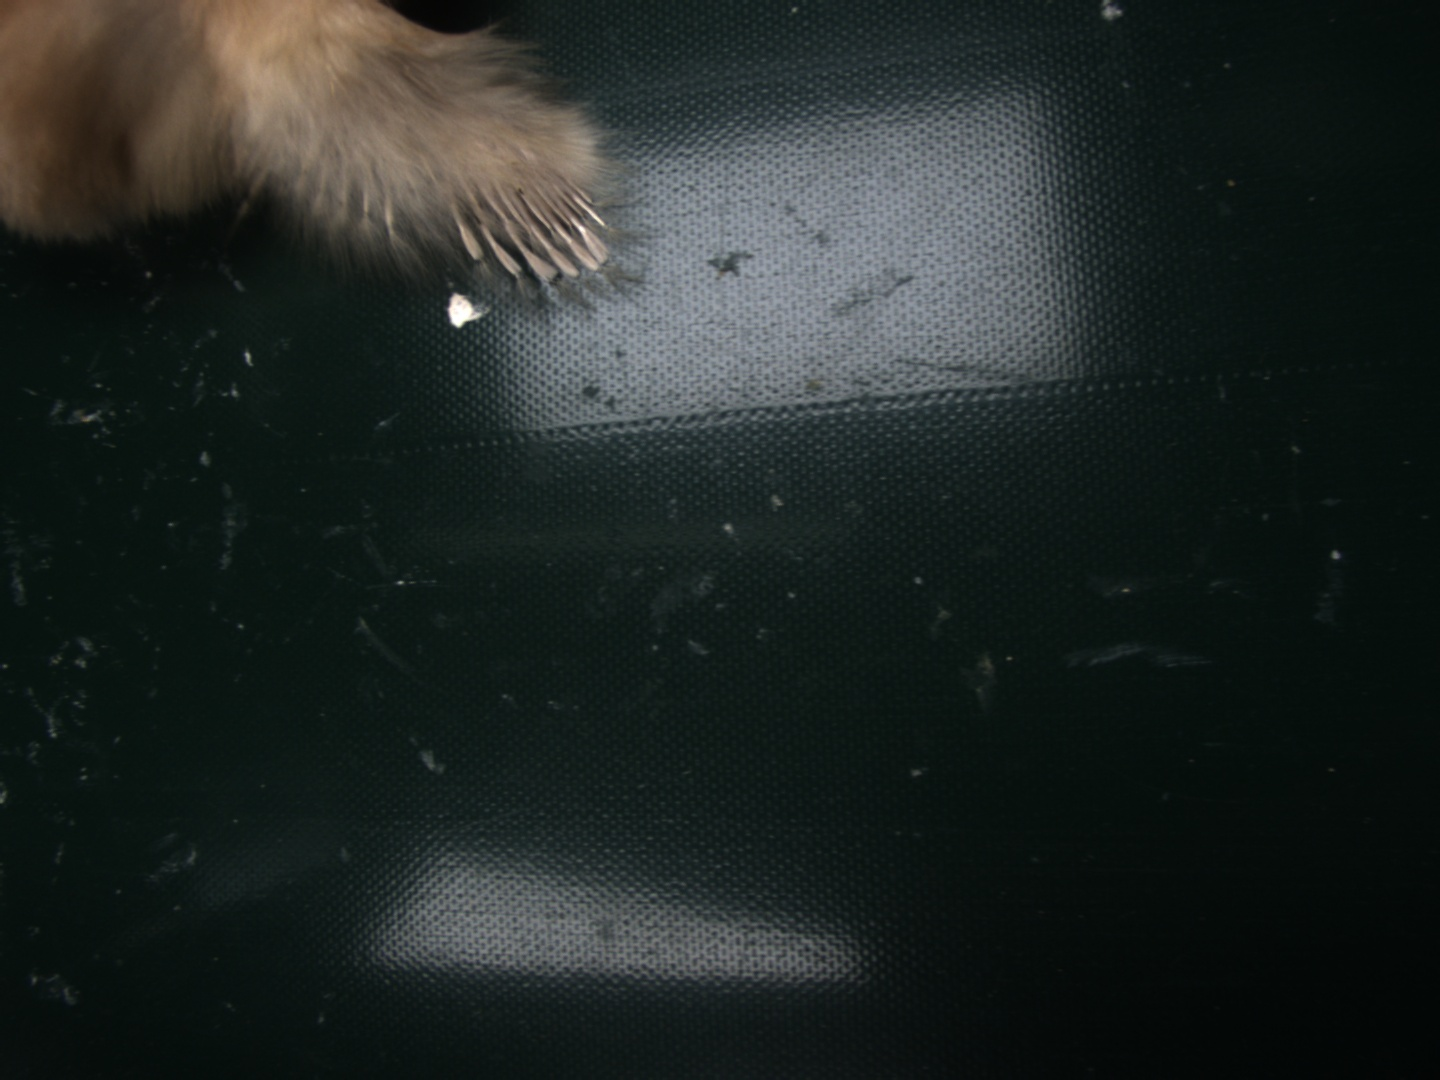female: (449, 166, 611, 275)
